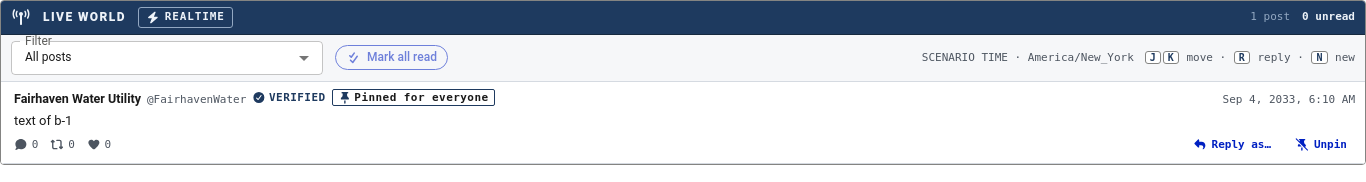
Test: AC — Pin for everyone / Unpin › unpins with the service (pinned: false) and drops the marker
Expected: the element with test id "live-world-pinned" is shown, [332,89,495,106]
Click the button with test id "live-world-pin": [1321, 145] box [1287,133,1355,156]
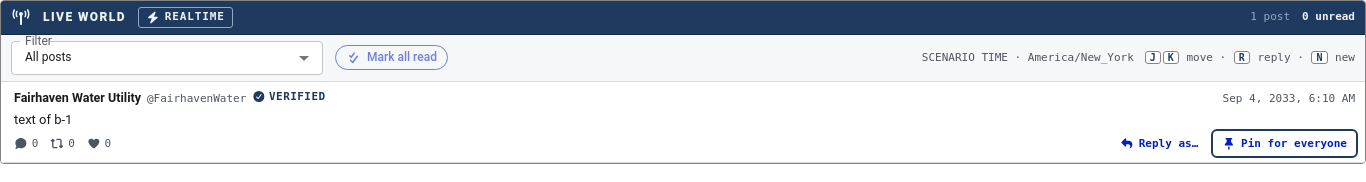
Now the element with test id "live-world-pinned" is gone
Now the button with test id "live-world-pin" reads "Pin for everyone", box [1214,132,1355,155]
